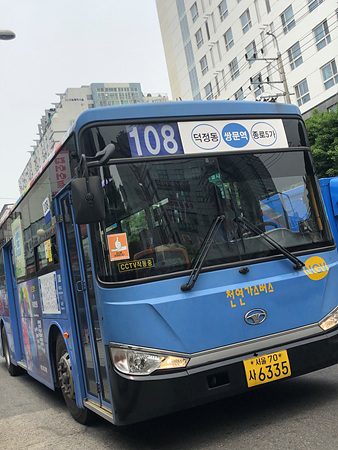bnum: (126, 122, 179, 155)
